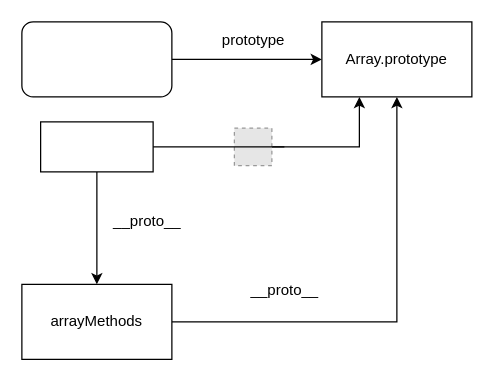
The diagram is 494 pixels wide and 381 high, and some of its shapes have lost their labels. Grey dashed boxes stand in for pictures. Here are the shapes that lost their labels. From the top down, the centre of each, then its label:
point 96,59: Array()
point 96,146: 数组实例
